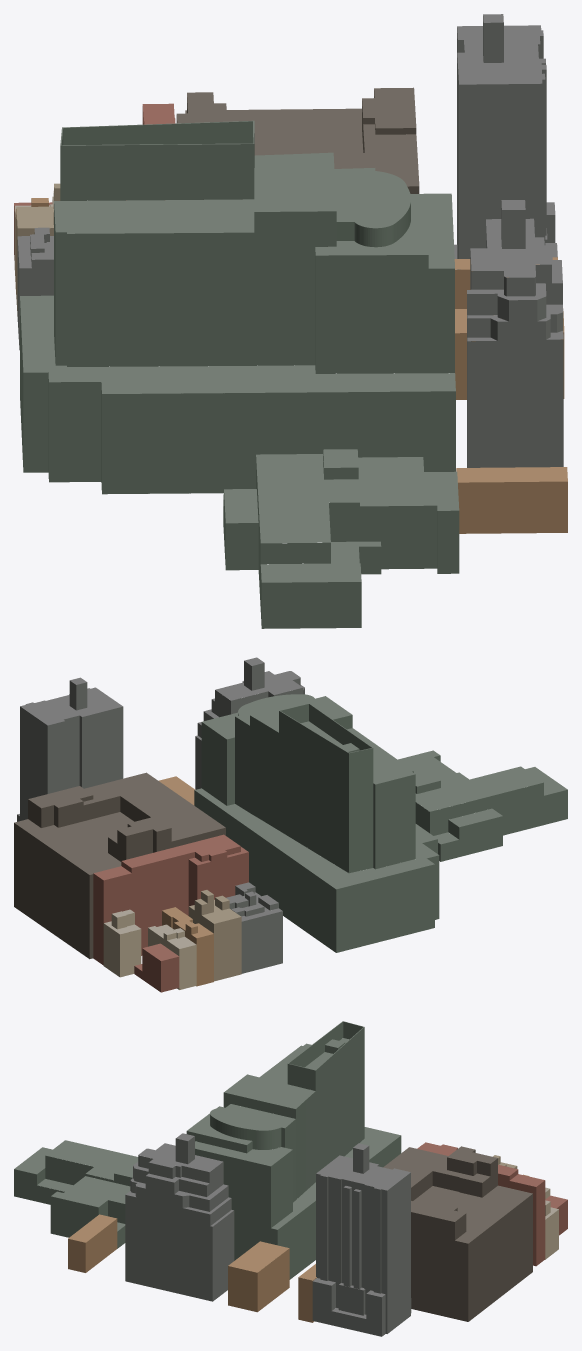
Rendered from tile-6_-6.glb.
3 renders of one model, top to bottom at view 1: azimuth 30°, elevation 25°; view 2: azimuth 150°, elevation 25°; view 3: azimuth 270°, elevation 25°, orthographic. The views are drawn at different scales.
Parts seen in each view (by area): view 1: wall, roof; view 2: wall, roof; view 3: wall, roof.
Part boxes in pixels (bbox=[...]): wall: bbox=[14, 16, 567, 628]; roof: bbox=[14, 14, 567, 582]; wall: bbox=[14, 661, 567, 992]; roof: bbox=[14, 657, 567, 970]; wall: bbox=[14, 1021, 567, 1336]; roof: bbox=[14, 1021, 567, 1318].
Size of the model in its own units: 162 by 77.07 by 221.
